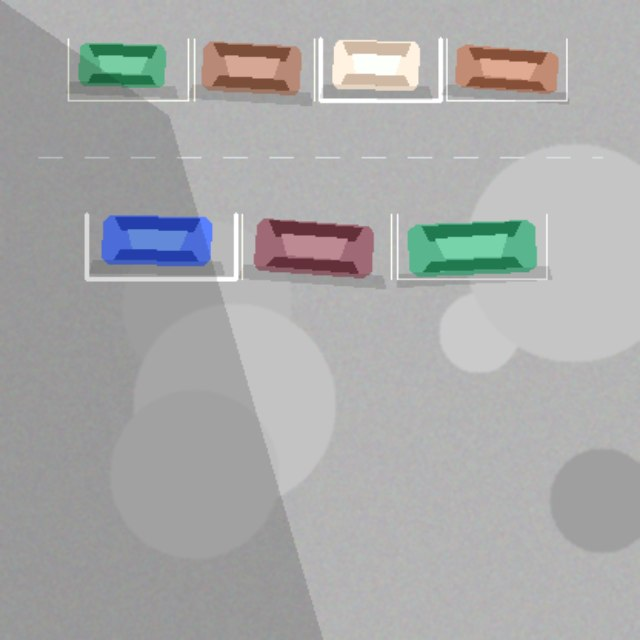space-occupied: (86, 214, 235, 278), (242, 214, 391, 278), (397, 214, 546, 278), (68, 38, 188, 100), (194, 38, 314, 100), (320, 38, 440, 100), (446, 38, 566, 100)
